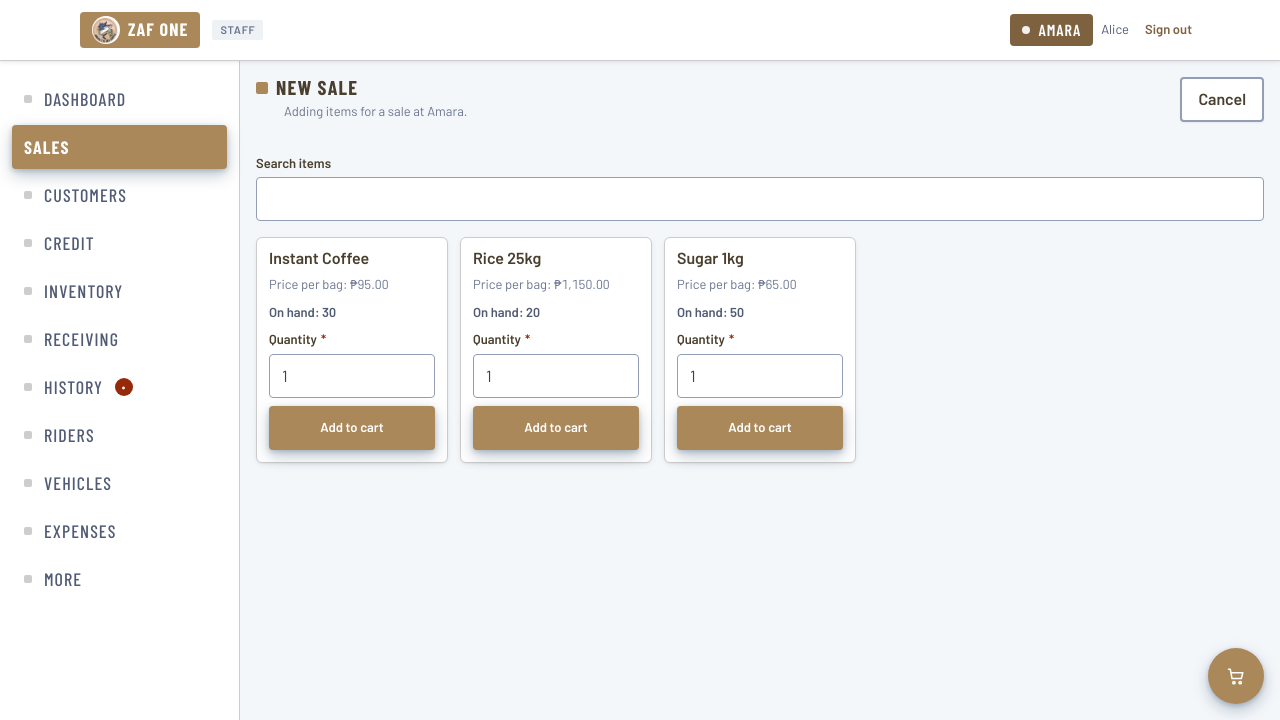
Test: NewSalePage › adds to the cart and updates the basket badge without leaving the page
Click the button "Add to cart" below "On hand: 20": [556, 428] box [473,406,639,450]
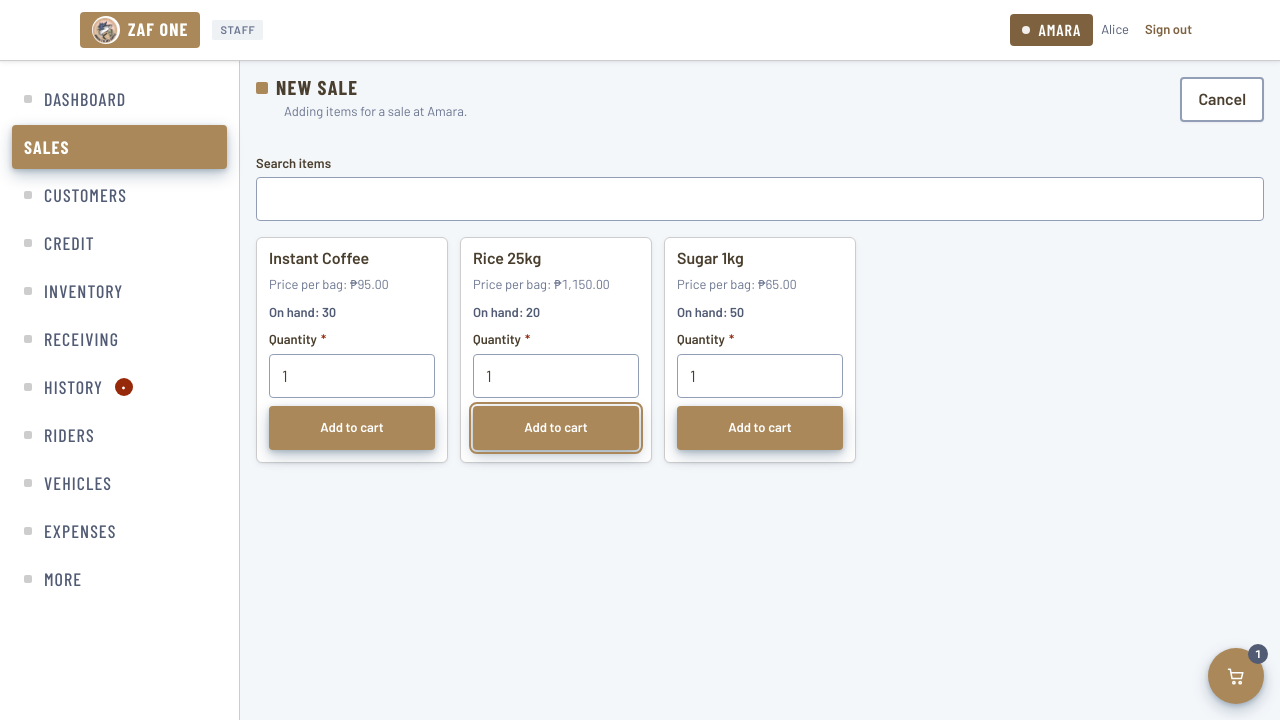
Expected: the heading "New sale" is shown, [276,77,358,98]
Expected: the text "1" is shown, [1248,644,1268,664]
